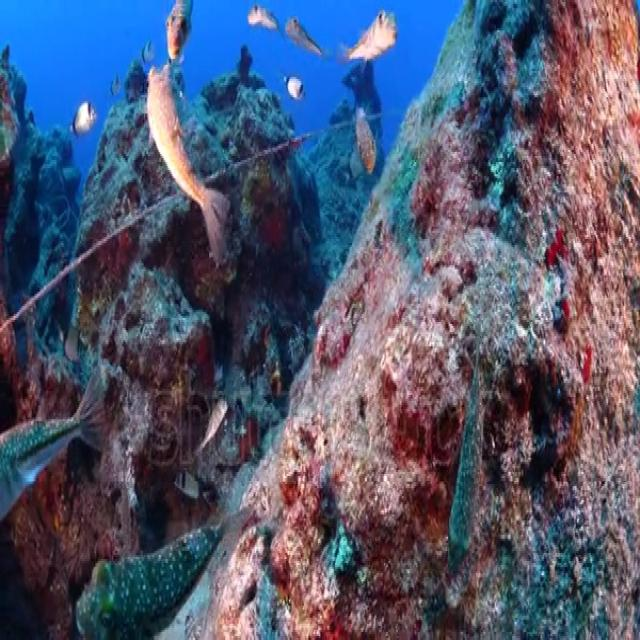Balon Baligi: (142, 62, 236, 256), (344, 11, 398, 68), (348, 101, 380, 178), (159, 0, 199, 56), (286, 7, 324, 57)
